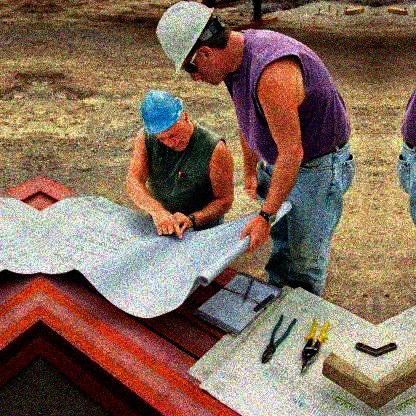helmet: (156, 1, 239, 87), (141, 90, 193, 152)
